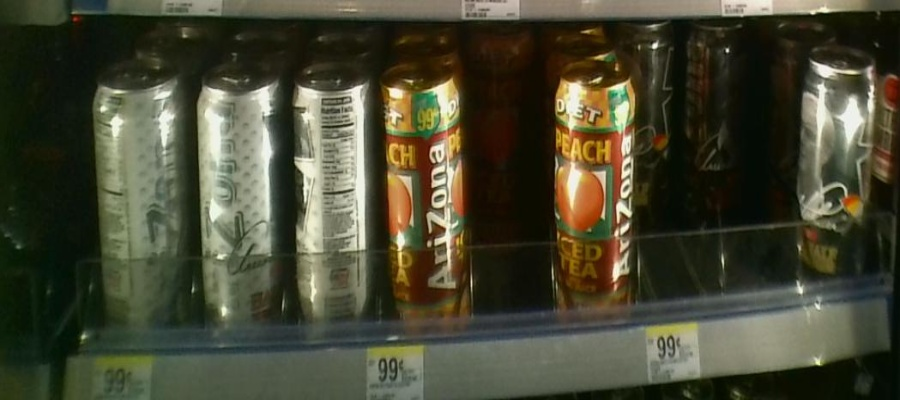bottle: (91, 51, 193, 337), (382, 43, 471, 343), (288, 47, 378, 335), (197, 60, 287, 339), (547, 61, 639, 330), (800, 38, 879, 293), (684, 21, 744, 204), (639, 22, 675, 212)
